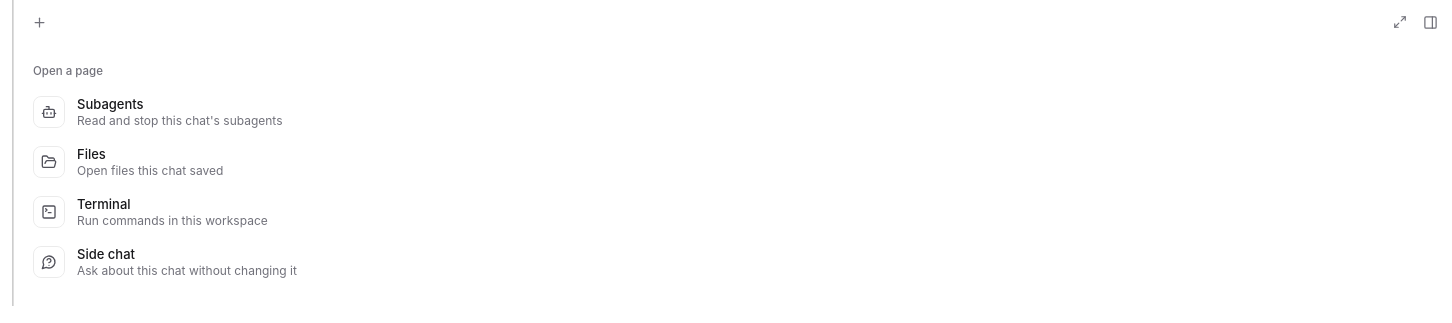
starts closed with an entry page, opens Subagents tabs and offers only working pages
Later steps or results of the test are not shown.
Click the button "Subagents Read and stop this chat's subagents".
click(49, 112)  # box [25, 88, 1440, 136]
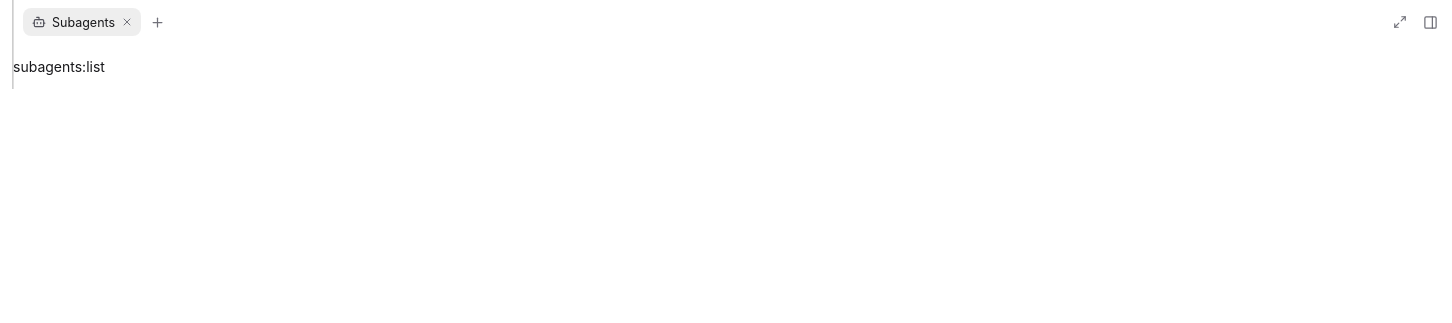
Result: the number of tabs is 1 at [23, 8, 117, 36]
Result: the text with test id "page" reads "subagents:list" at [13, 58, 105, 75]
